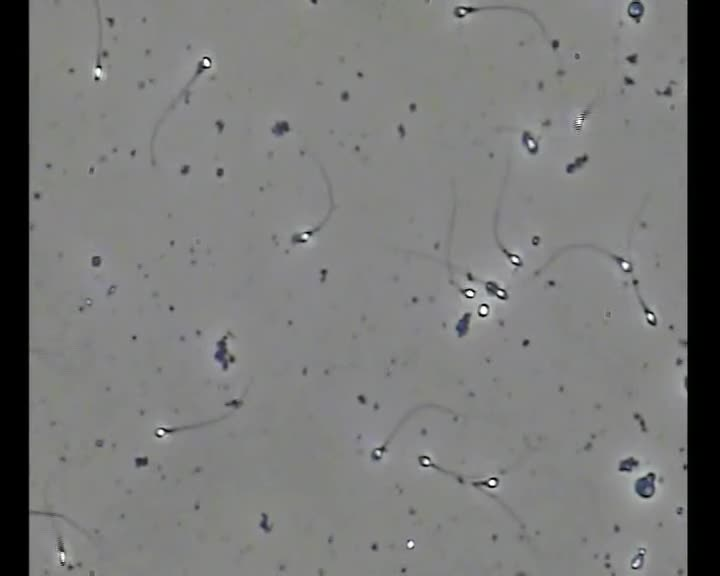spermhead: (521, 131, 538, 154), (626, 0, 644, 21), (291, 229, 313, 244), (56, 540, 67, 567), (453, 5, 474, 19), (198, 55, 213, 71), (617, 257, 632, 273), (93, 63, 105, 82), (371, 444, 385, 460), (507, 253, 522, 267), (645, 308, 656, 326), (461, 286, 476, 299), (484, 475, 499, 488), (154, 426, 170, 438), (418, 454, 431, 467), (478, 303, 489, 317), (495, 287, 507, 299), (407, 539, 415, 549)
